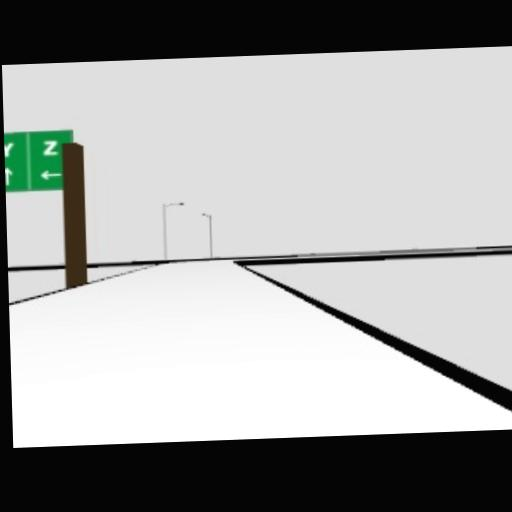Left: (39, 168, 62, 179)
Straight: (5, 165, 13, 184)
Y: (4, 142, 13, 156)
Z: (44, 139, 59, 156)
